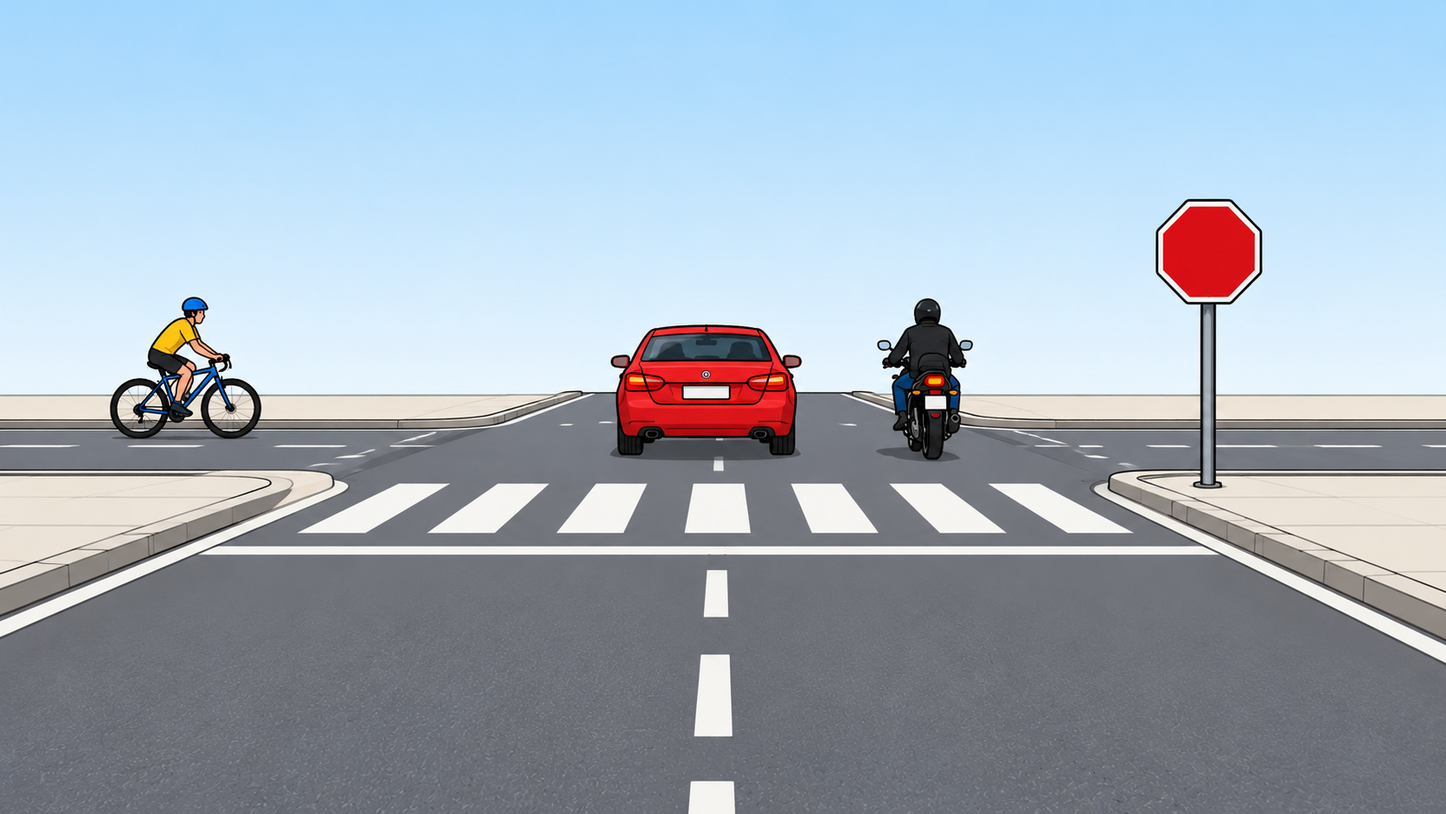bicycle: (108, 346, 264, 440)
car: (611, 326, 801, 459)
motorcycle: (875, 298, 976, 457)
person: (146, 296, 235, 425), (880, 297, 975, 403)
stop_sign: (1155, 198, 1263, 304)
zebra_crossing: (298, 479, 1139, 551)
